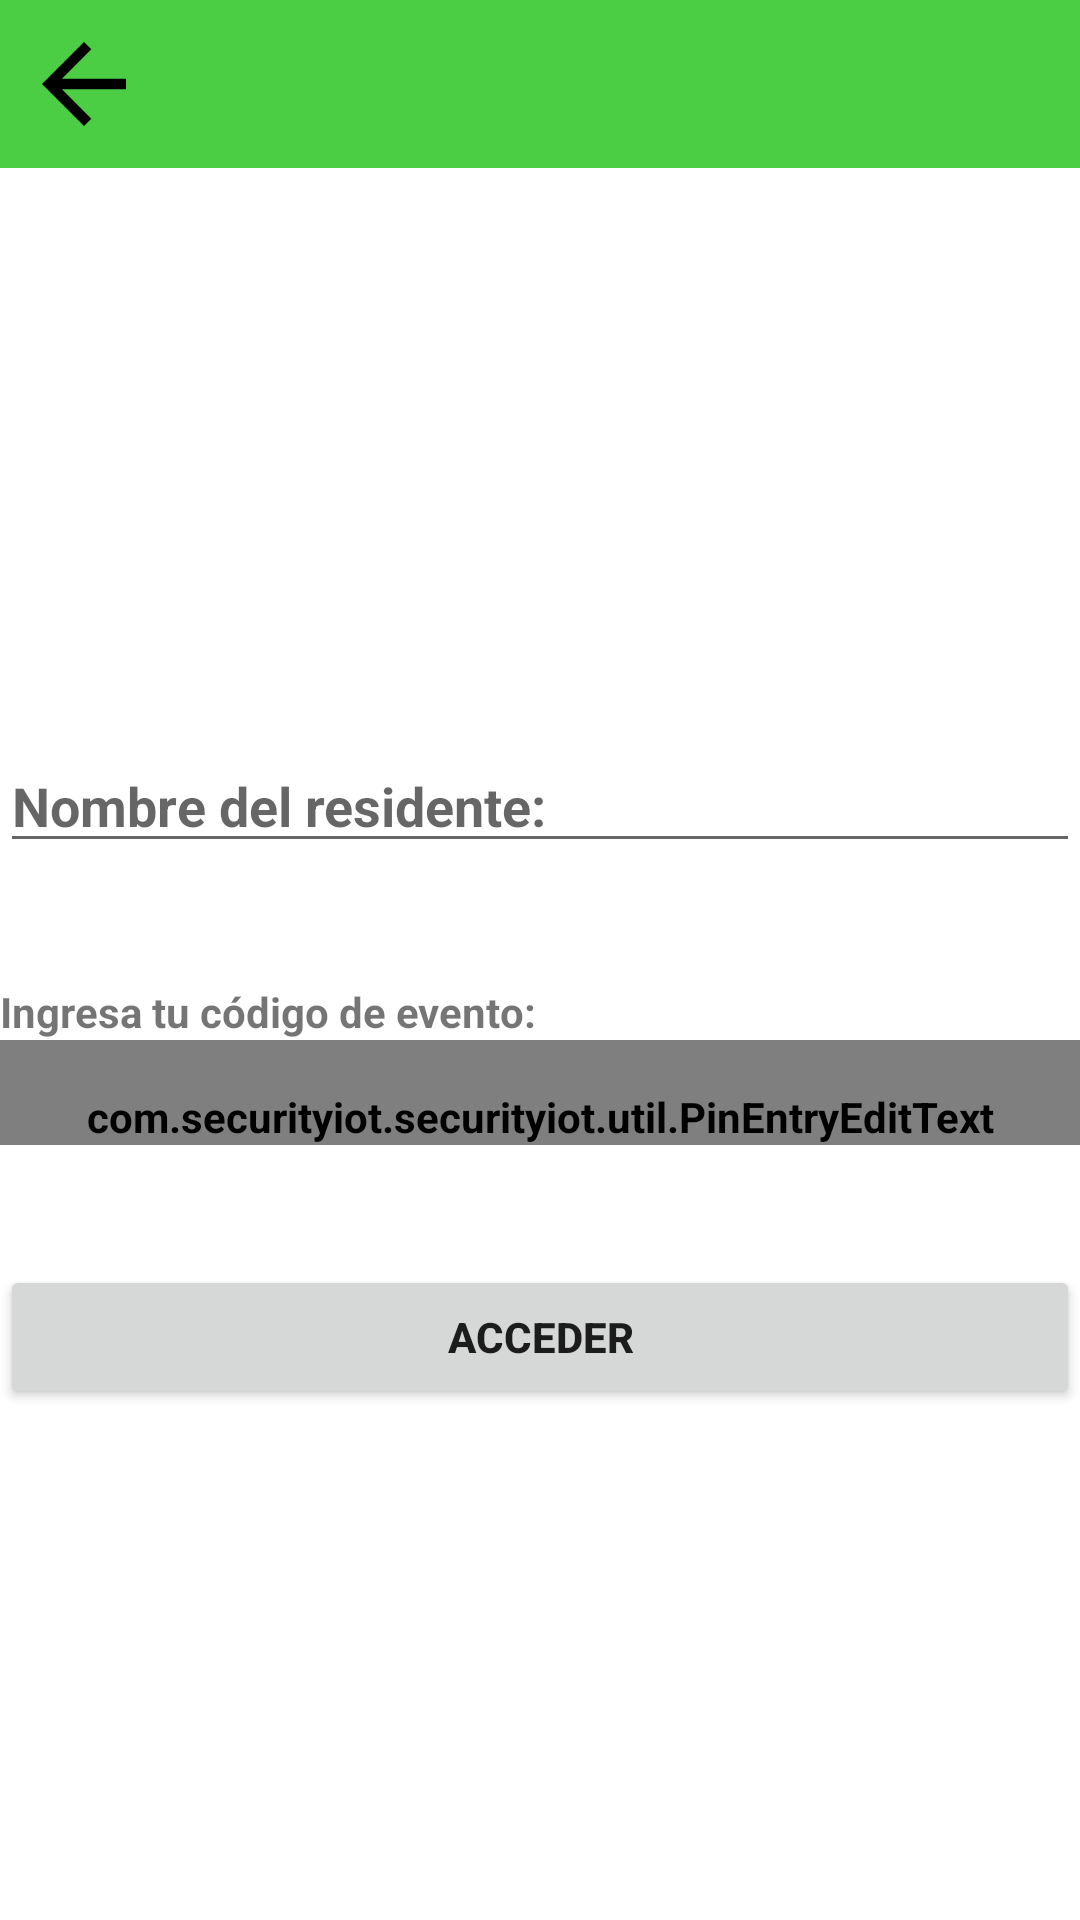

Screen size 1080*1920. Icon name, then its center in pixels as [x,y]:
arrow back: [84,84]
